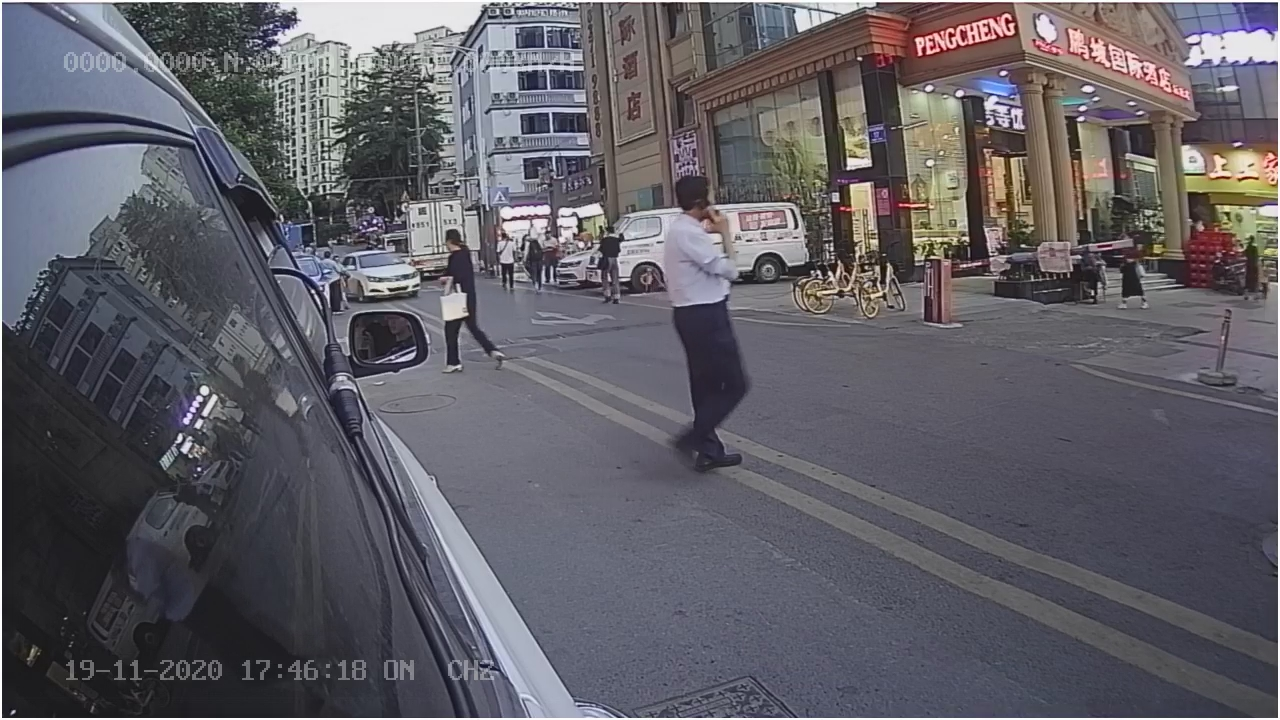person: (648, 170, 761, 485)
